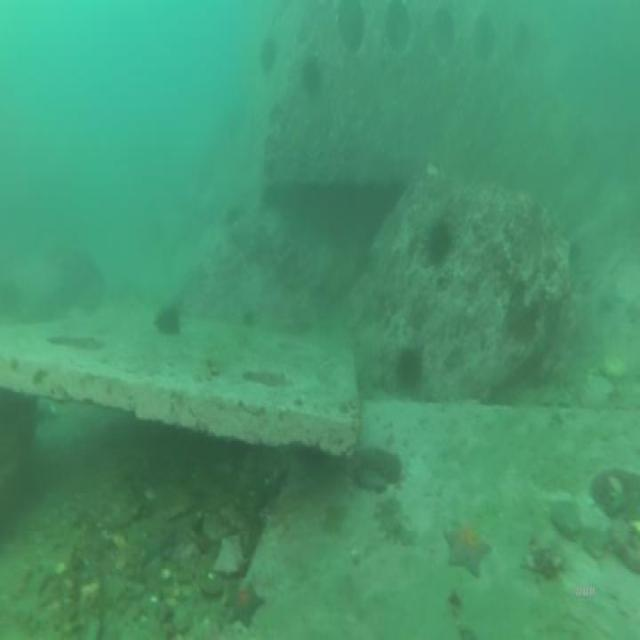echinus: (393, 338, 427, 392), (422, 213, 452, 267), (149, 298, 183, 339), (300, 52, 324, 98), (259, 35, 279, 79)
starfish: (446, 512, 492, 578), (227, 575, 265, 632), (133, 524, 176, 574)
